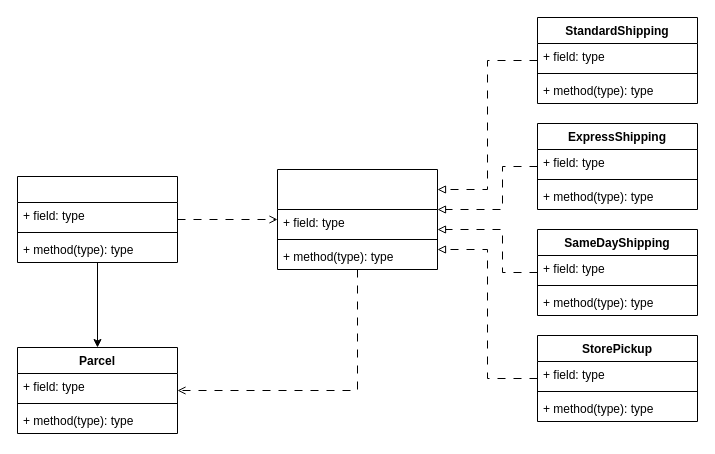
Image size: 715x454. Some labels were removed from this diagram. The box of each missing label's shape, as (x1, y1, x2, y2) in pixels:
ShippingCalculator: (16, 176, 178, 262)
«interface» ShippingStrategy: (276, 168, 438, 270)
